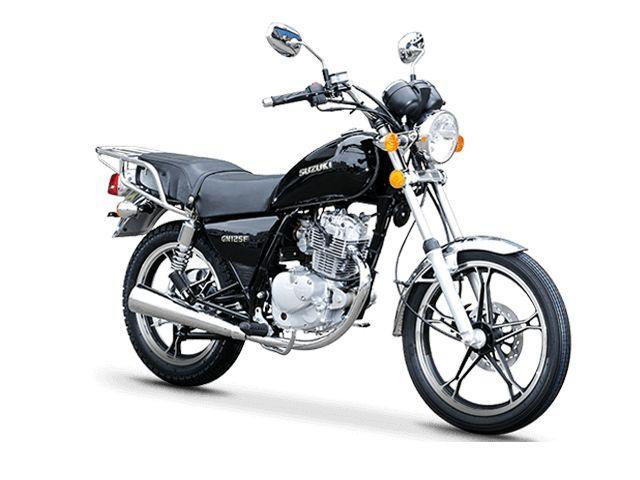motorbike: (94, 20, 571, 435)
